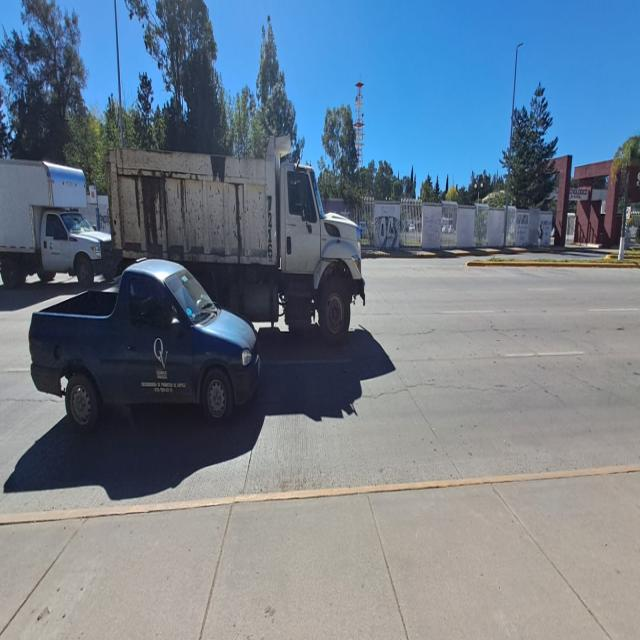Auto: (29, 250, 261, 435), (1, 153, 110, 282)
